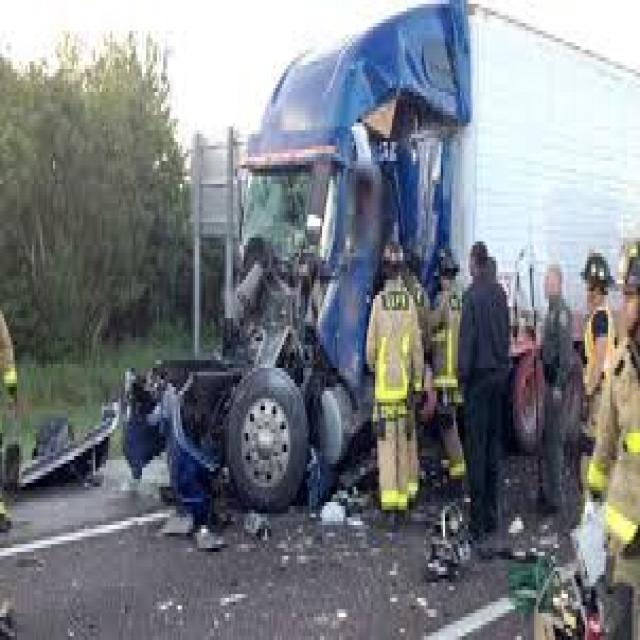accident: (125, 1, 475, 526)
